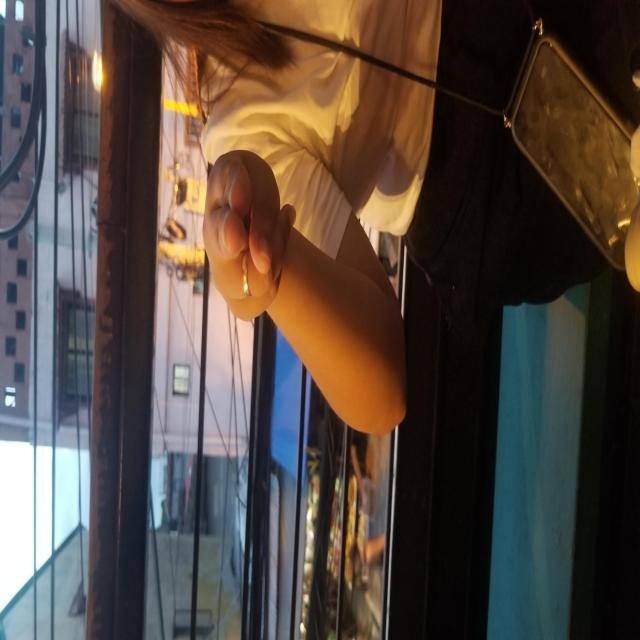N: (314, 202, 492, 296)
